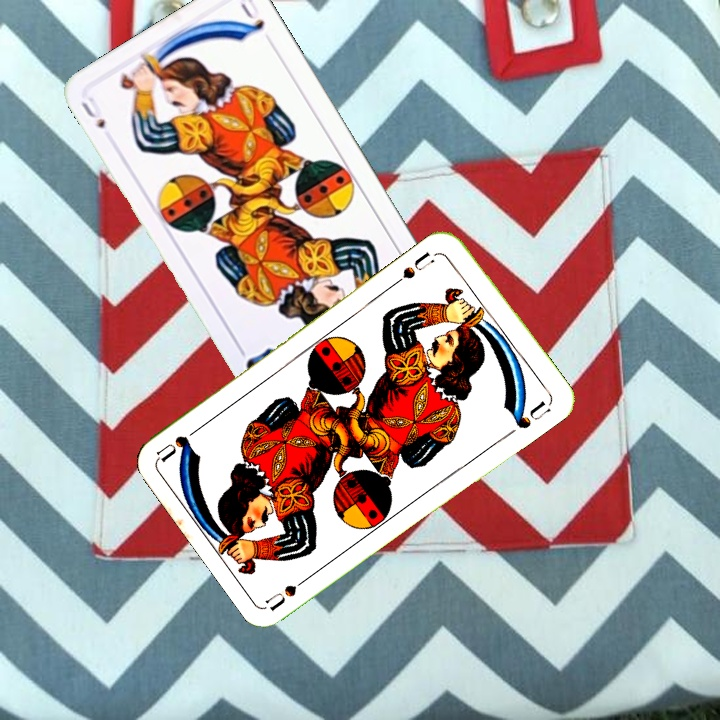SU: (262, 569, 317, 613), (390, 248, 437, 288), (77, 92, 108, 131)
